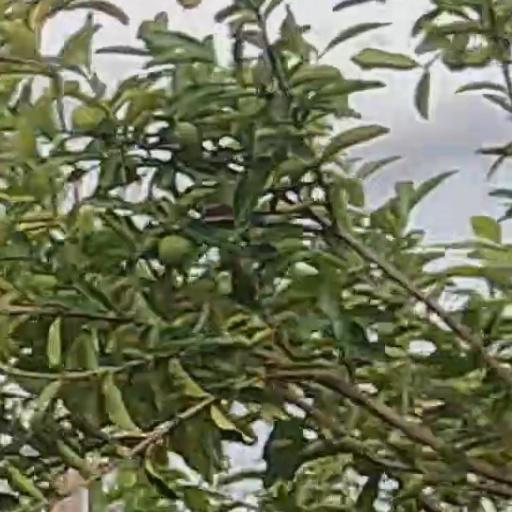acerola_verde: (161, 236, 194, 263)
